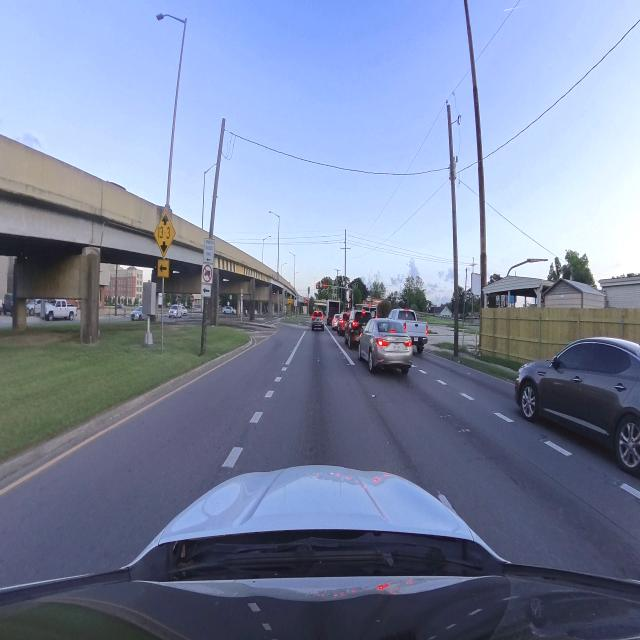car: (0, 466, 639, 639), (515, 338, 639, 474), (358, 319, 412, 373), (389, 309, 428, 353), (344, 310, 370, 349), (45, 299, 77, 321), (337, 312, 349, 335), (26, 299, 42, 316), (311, 310, 324, 330), (2, 294, 13, 315), (169, 305, 187, 317), (131, 306, 146, 320), (332, 314, 339, 330), (222, 306, 236, 314)
